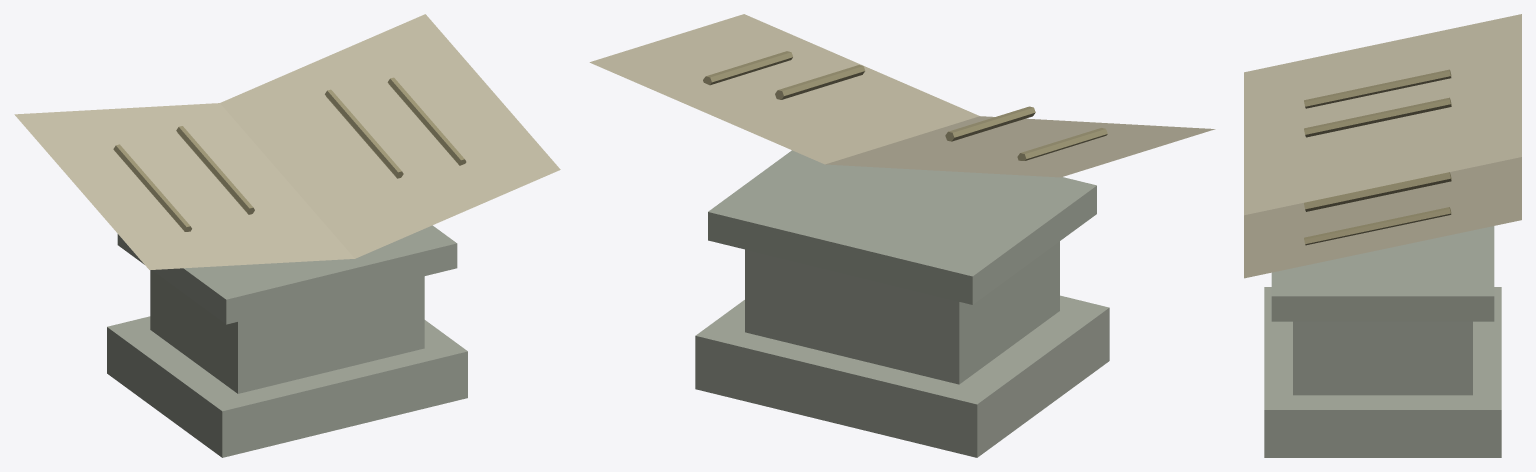
Rendered from map-exclusive-v3__champion_09.glb.
3 views of the same model, side by side, from view 1: azimuth 30°, elevation 25°; view 2: azimuth 150°, elevation 25°; view 3: azimuth 270°, elevation 25° (orthographic). The views are drawn at different scales.
Parts seen in each view (by area): view 1: champion_09; view 2: champion_09; view 3: champion_09.
Boxes of the visible parts, box(x1,y1,x2,y2) form: champion_09: box(14, 14, 560, 457); champion_09: box(589, 14, 1215, 457); champion_09: box(1244, 14, 1521, 457).
Bounding box in the file's own units: 1.44 × 0.91 × 0.82.
